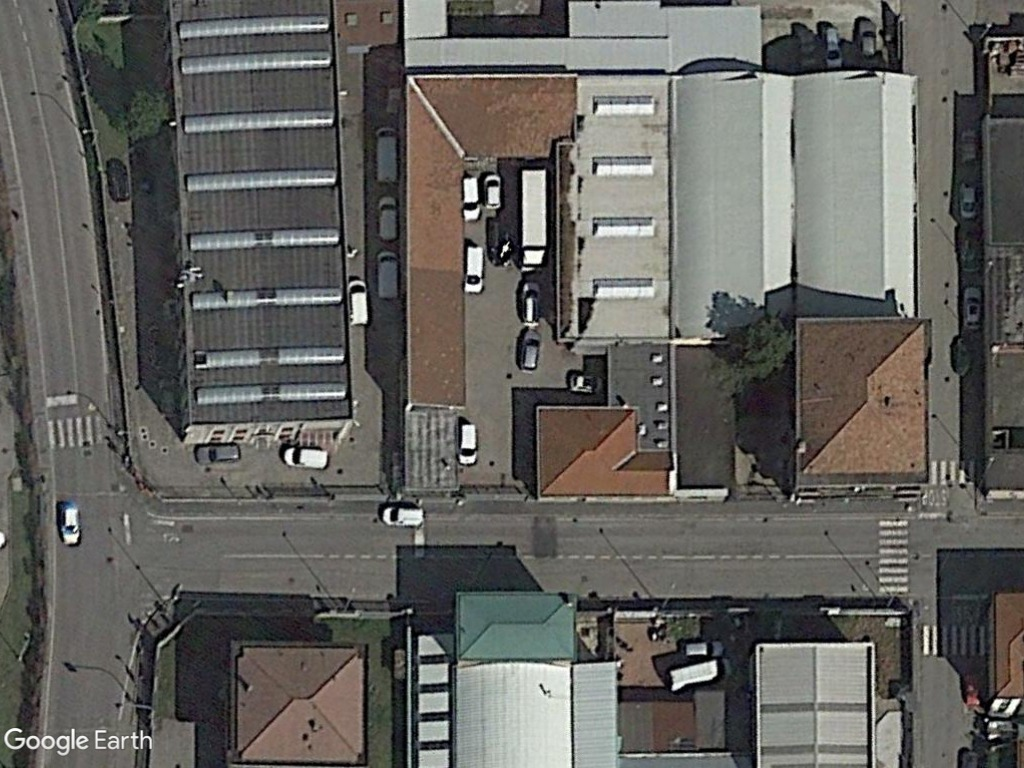car: (515, 277, 545, 329), (958, 283, 987, 336), (853, 14, 882, 65), (817, 24, 847, 71), (56, 499, 84, 549), (190, 441, 246, 466), (515, 330, 545, 374), (678, 635, 728, 659), (957, 176, 981, 222)
truck: (515, 162, 552, 275)
van: (663, 656, 733, 695), (370, 122, 402, 188), (373, 246, 404, 304), (372, 192, 403, 245), (460, 242, 489, 296), (280, 443, 334, 471), (377, 502, 429, 531), (346, 276, 373, 330), (459, 173, 485, 224), (454, 421, 481, 469), (482, 169, 503, 214)
